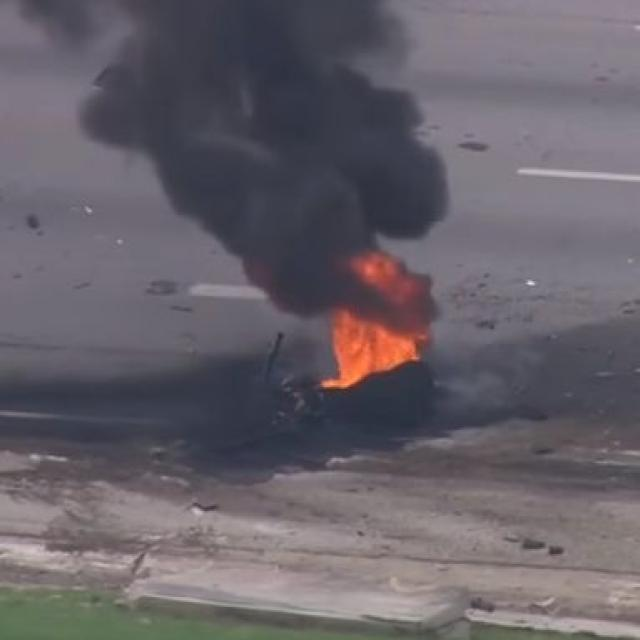Fire: (306, 275, 446, 384)
Smoke: (106, 52, 588, 228)
